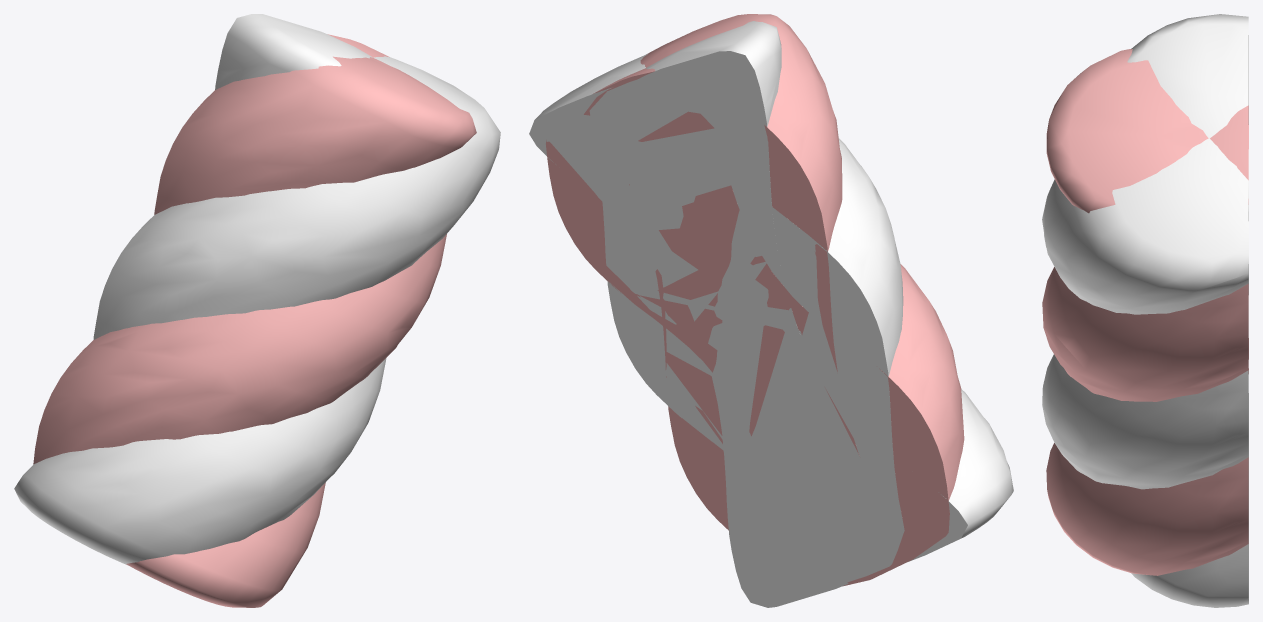
Rendered from marshmallow.01.glb.
3 renders of one model, left to right at view 1: azimuth 30°, elevation 25°; view 2: azimuth 150°, elevation 25°; view 3: azimuth 270°, elevation 25°, orthographic. The views are drawn at different scales.
Visible parts, largest first — view 1: marshmallow.01; view 2: marshmallow.01; view 3: marshmallow.01.
Part boxes in pixels (bbox=[...]): marshmallow.01: bbox=[14, 14, 500, 607]; marshmallow.01: bbox=[529, 14, 1013, 607]; marshmallow.01: bbox=[1042, 14, 1248, 607].
Size of the model in its own units: 13.24 by 15.34 by 4.84.
